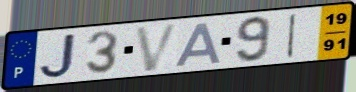3: (85, 29, 120, 77)
9: (234, 14, 272, 64)
A: (173, 21, 225, 69)
I: (285, 12, 299, 60)
J: (37, 32, 79, 81)
V: (133, 21, 182, 73)
